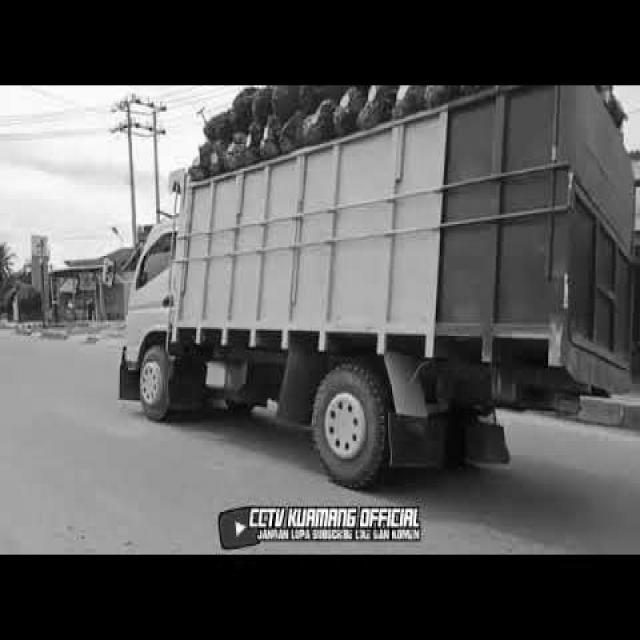truck: (109, 87, 640, 485)
